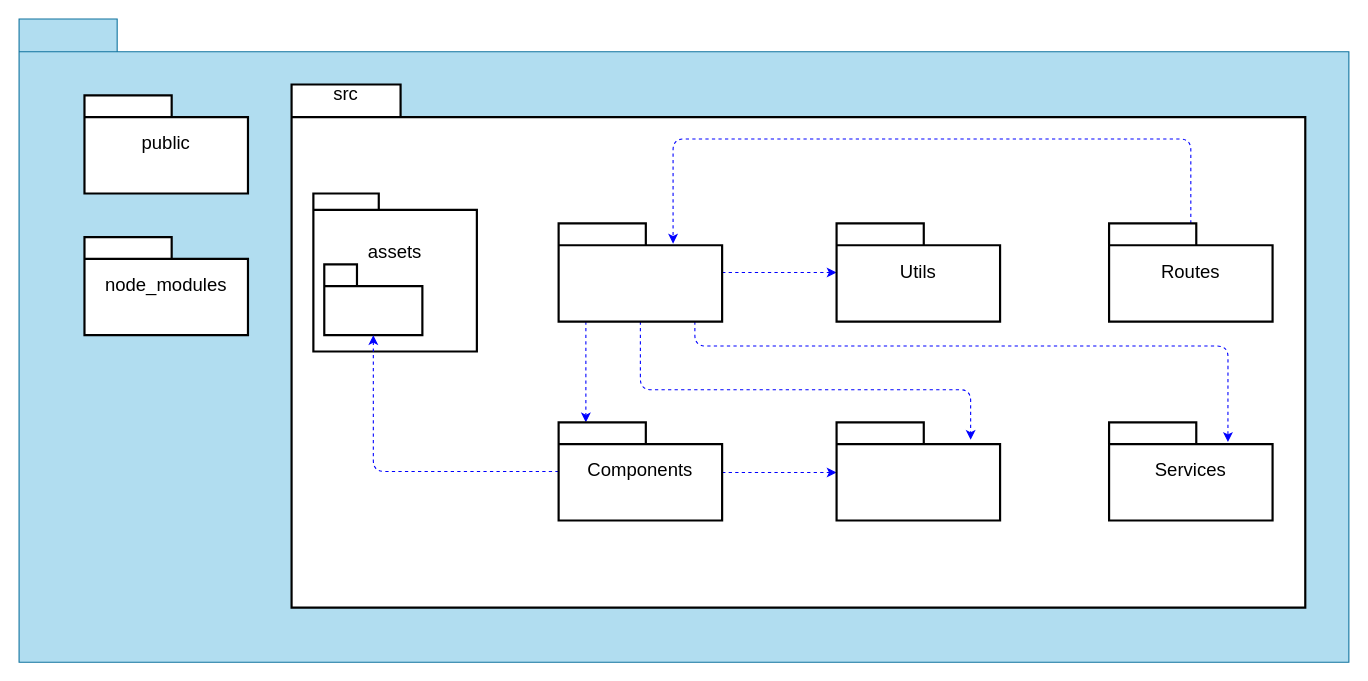
Some shapes in this 1368 by 681 pixel diagram are drawn without their labels. Here are the shapes that lost their labels. From the top down, the centre of each, then its label:
At (640,272): "Pages".
At (373,299): "img".
At (918,471): "Constraints".
